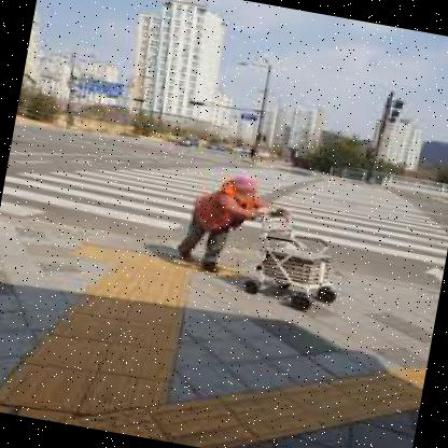silver: (172, 166, 296, 283)
